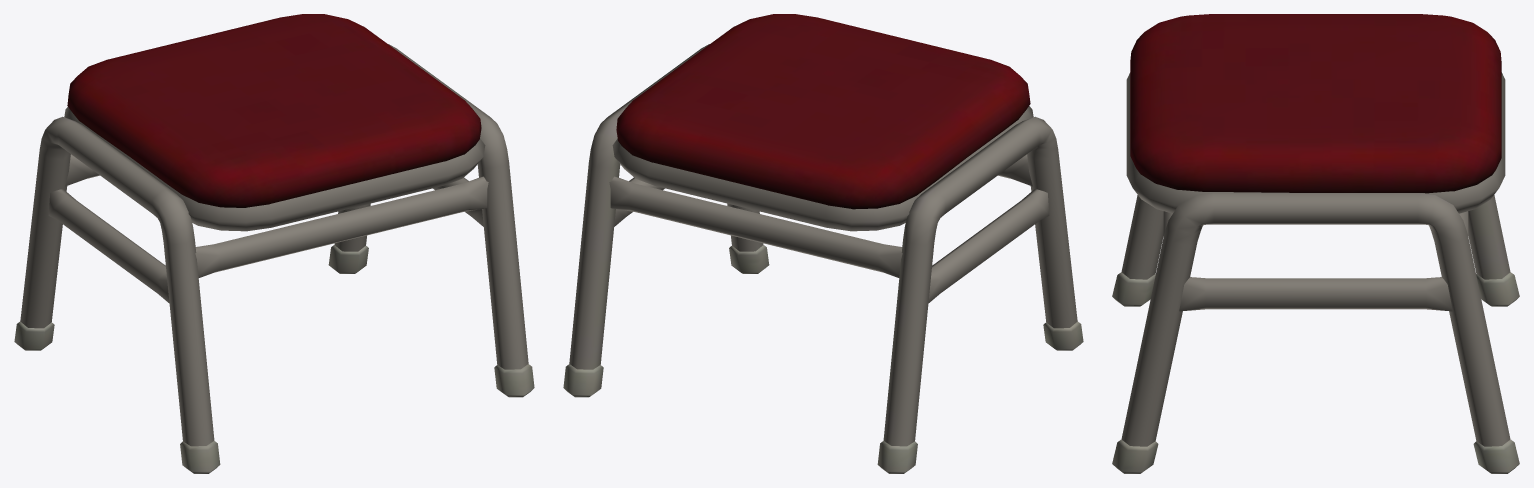
3 views of the same model, side by side, from view 1: azimuth 30°, elevation 25°; view 2: azimuth 150°, elevation 25°; view 3: azimuth 270°, elevation 25° (orthographic). The views are drawn at different scales.
Bounding box in the file's own units: 6.39 × 5.02 × 6.03.
Materials: 1 (1 with a texture image).
